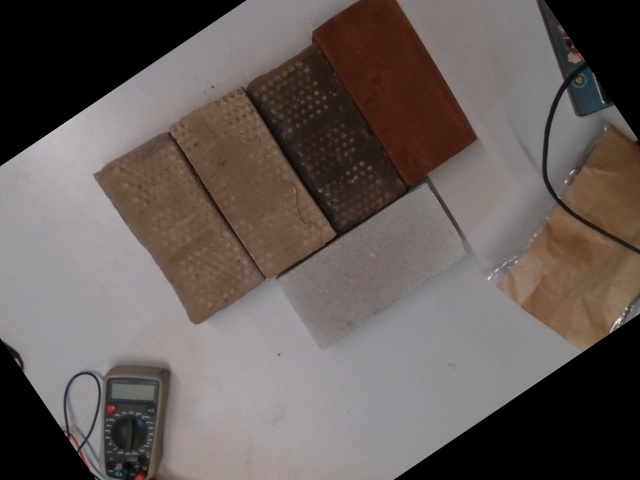brick: (277, 186, 469, 348), (97, 130, 258, 323), (172, 87, 332, 278), (249, 44, 407, 231)
